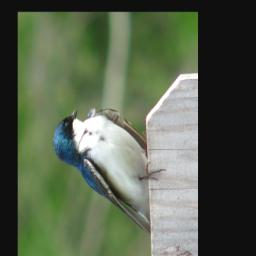Swallow: (51, 106, 167, 239)
